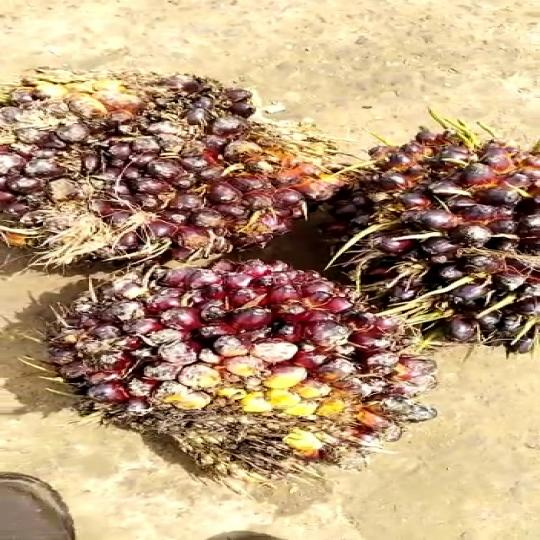kurang masak: (48, 254, 452, 507), (0, 48, 297, 272), (329, 122, 540, 357)
